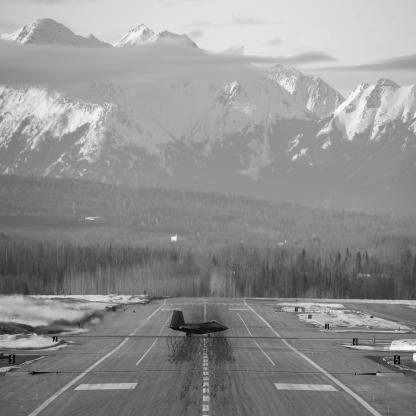F22: (164, 311, 230, 338)
